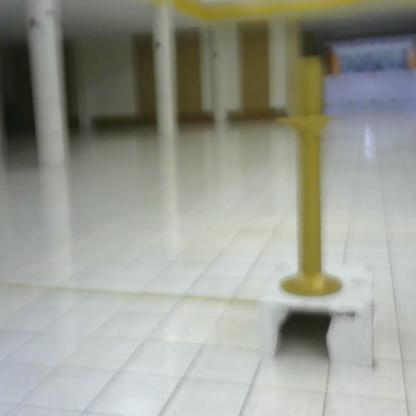pole: (275, 54, 348, 303)
